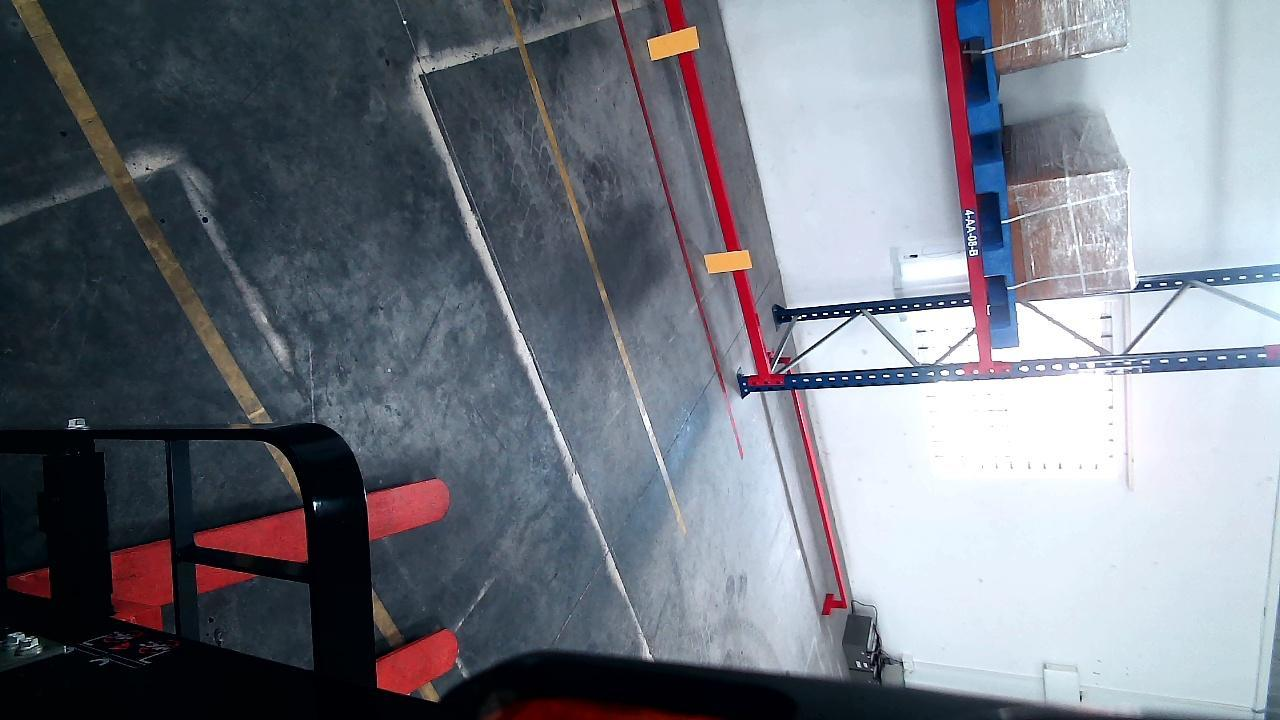red_line: (610, 1, 744, 454)
yellow_line: (14, 0, 403, 659), (503, 5, 689, 529)
